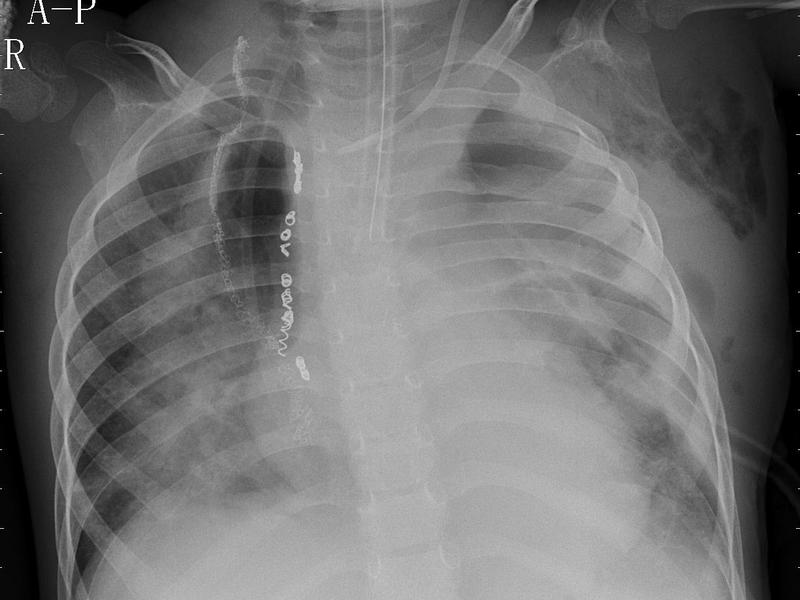PNEUMONIA: (454, 127, 745, 546), (86, 194, 212, 516), (221, 327, 333, 522)
